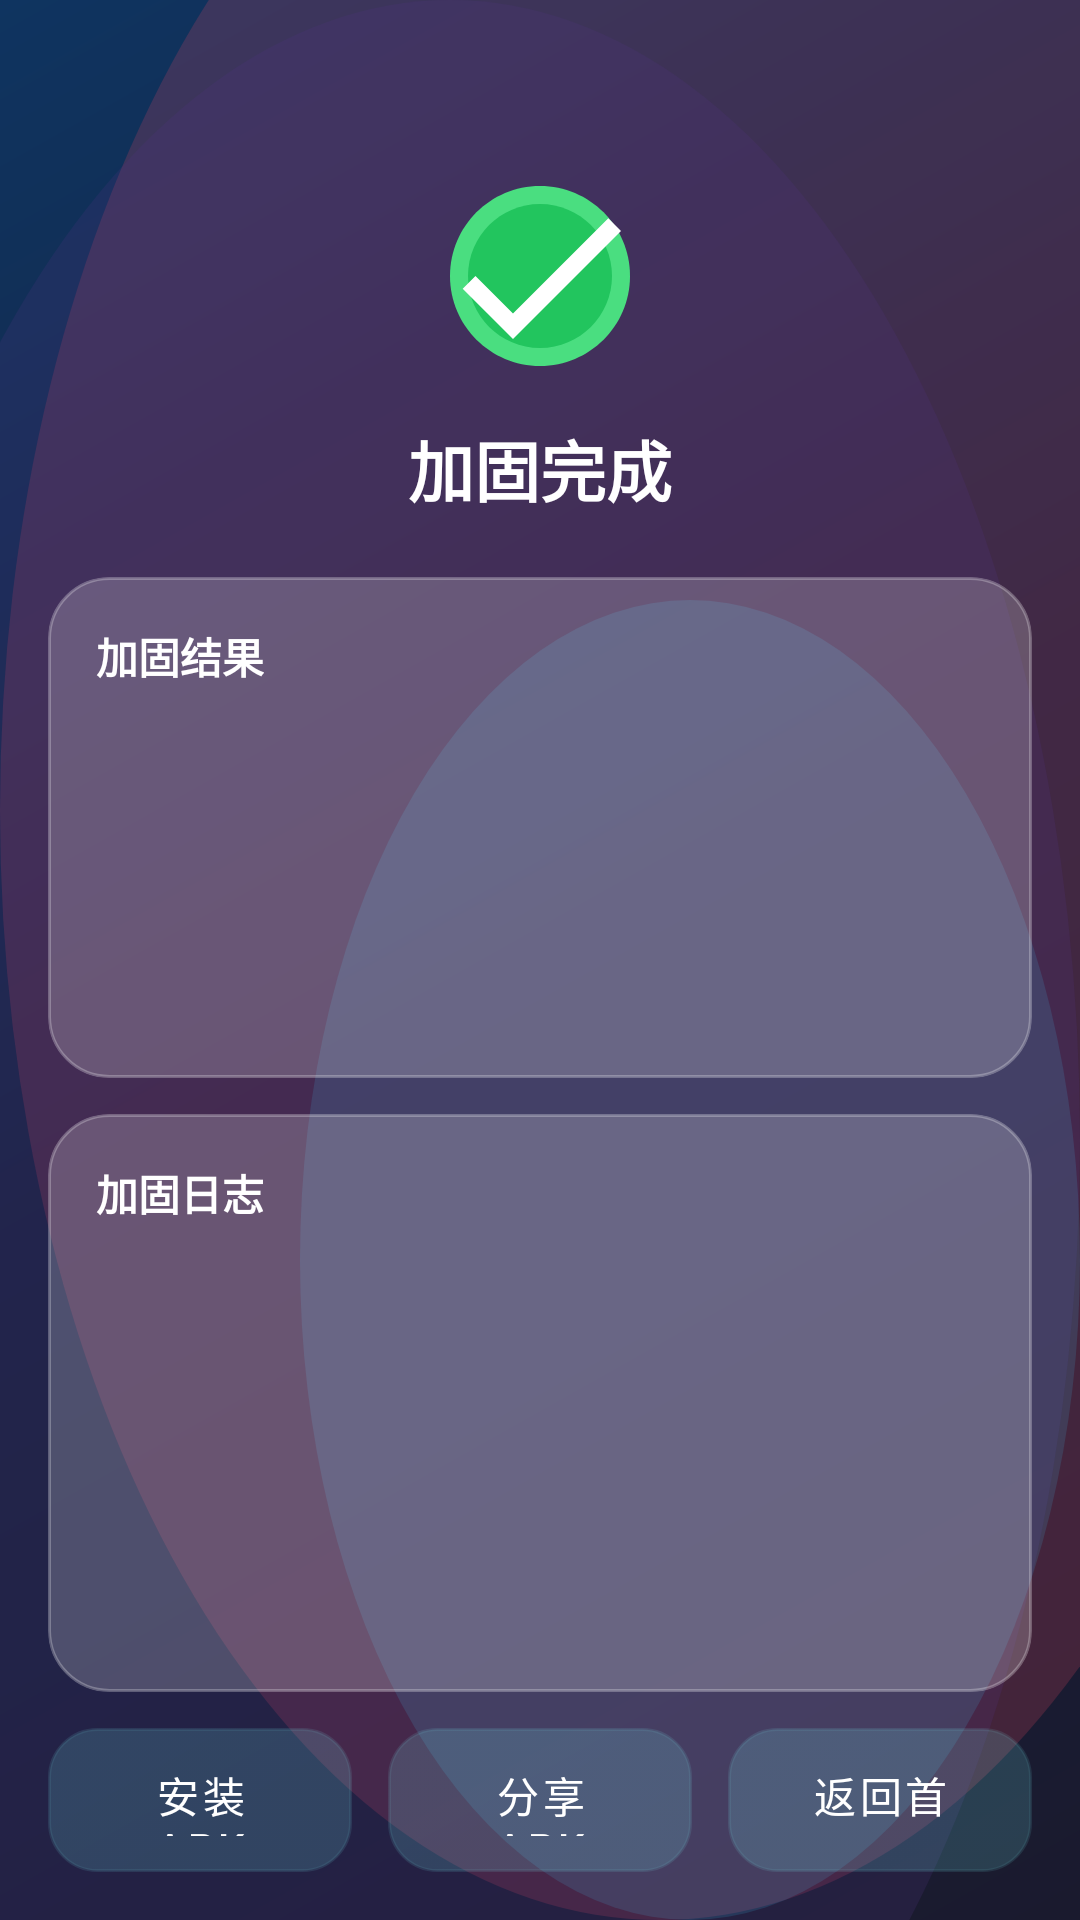

Where to tap for icons on this 1080w x 1920h app screen, as [x,y]:
success: [540,276]
